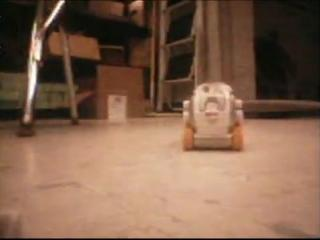cozmo: (181, 81, 245, 151)
